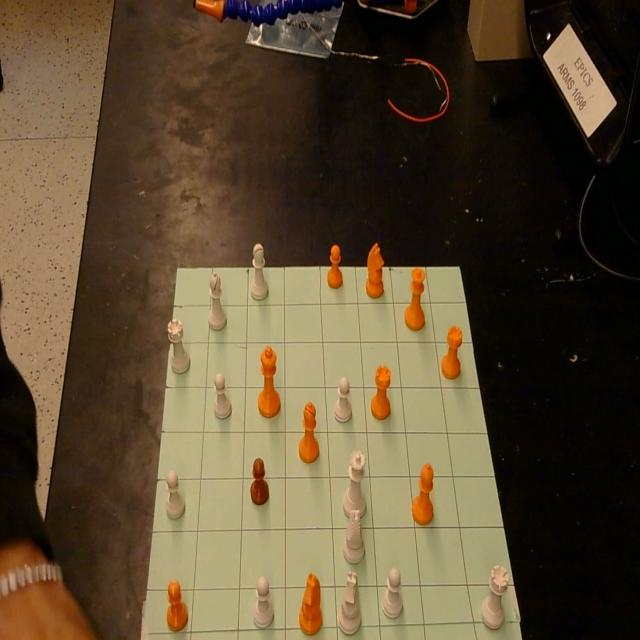orange_bishop: (411, 462, 435, 526), (298, 402, 320, 462)
orange_king: (258, 345, 281, 418)
orange_knight: (299, 572, 323, 634), (365, 242, 385, 298)
orange_pawn: (166, 578, 188, 632), (250, 458, 269, 506), (328, 244, 343, 289)
orange_queen: (404, 268, 426, 332)
orange_rook: (441, 324, 463, 380), (371, 365, 391, 420)
white_bishop: (208, 270, 227, 330), (250, 243, 268, 301)
white_knight: (337, 570, 361, 634), (342, 508, 364, 564)
white_pawn: (253, 575, 274, 628), (382, 566, 403, 618), (166, 469, 186, 519), (213, 372, 232, 419), (334, 377, 352, 423)
white_queen: (342, 451, 367, 518)
white_rook: (481, 564, 508, 629), (167, 317, 190, 373)
